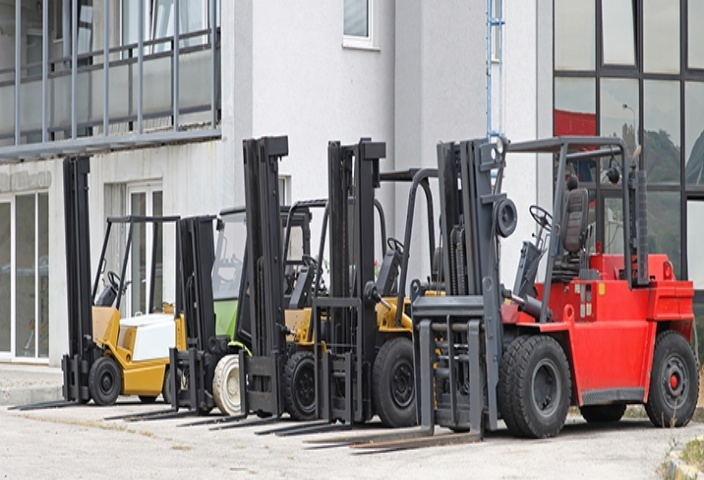industrial: (426, 121, 700, 438), (307, 126, 471, 414), (161, 170, 307, 419), (55, 147, 193, 401)
